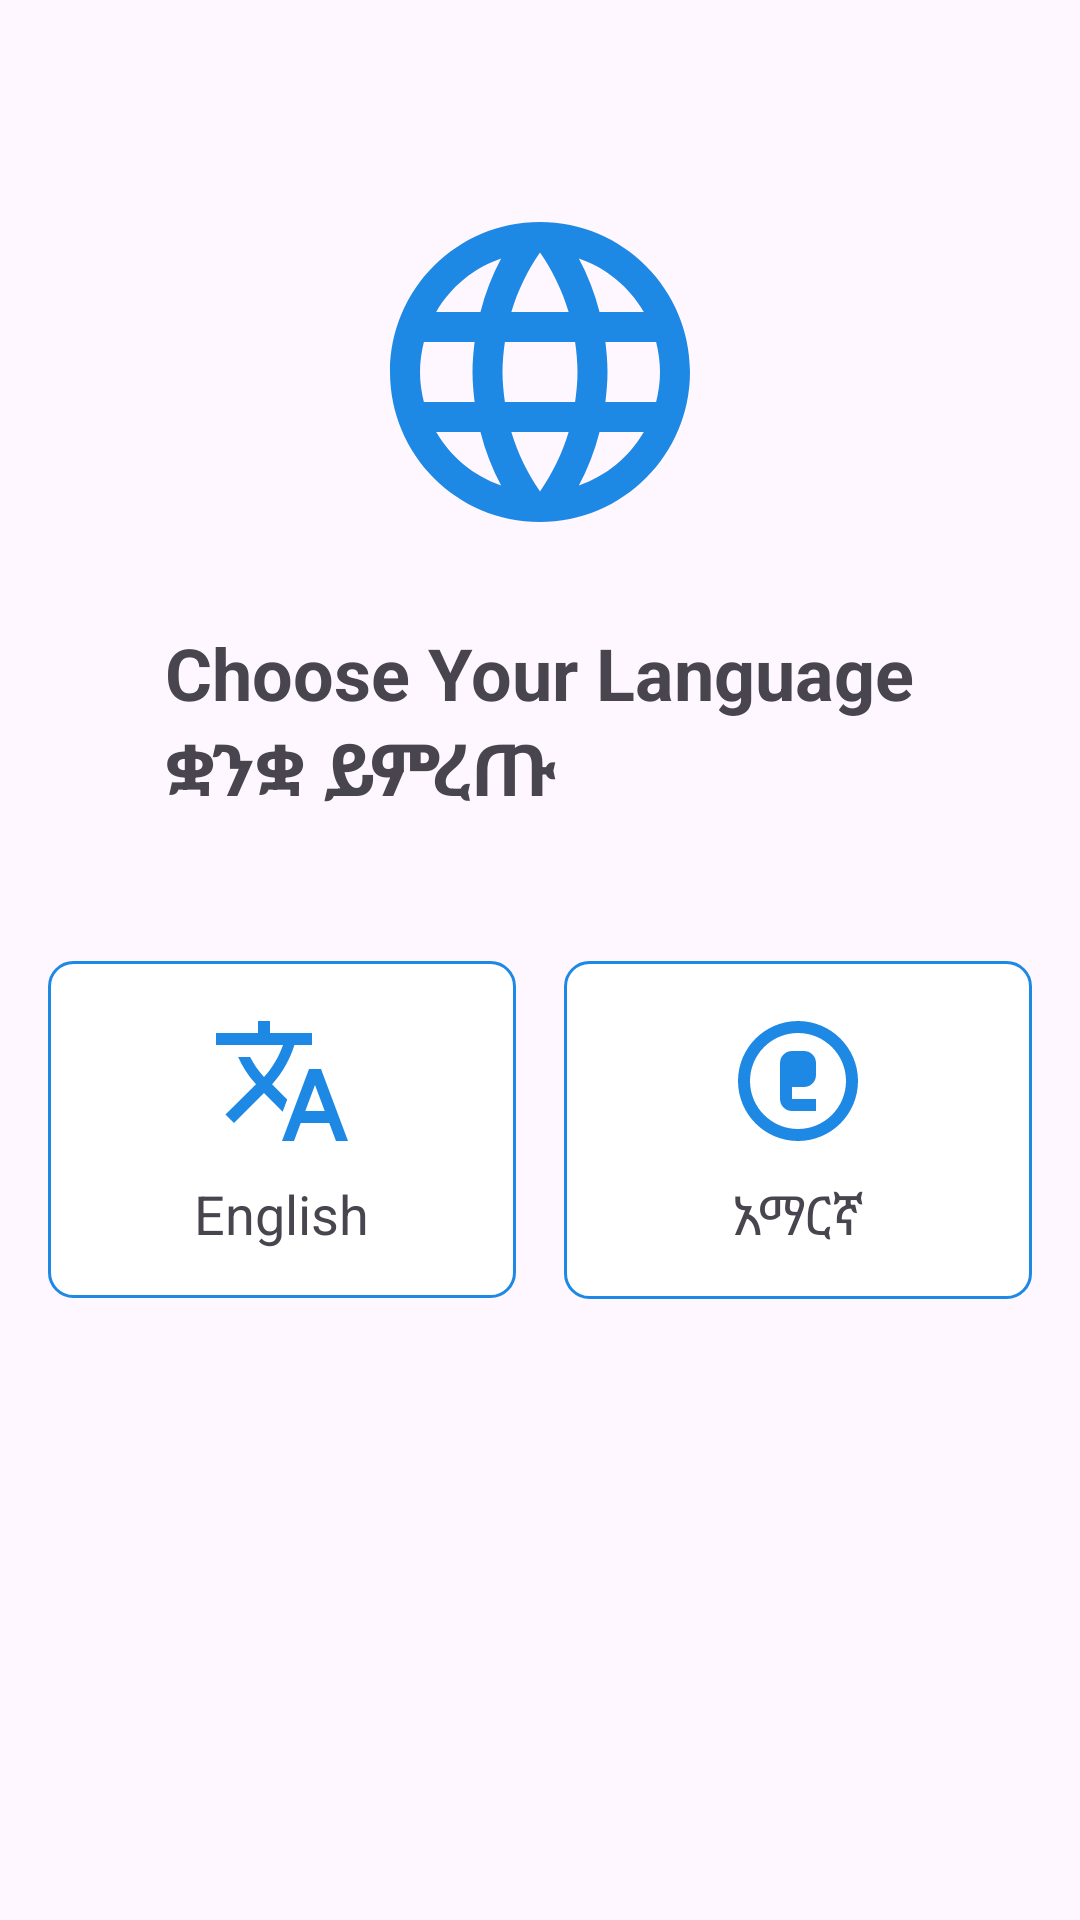

Where icons sit on this 1080x1920 app screen, as (x1, y1, x2, y2):
Language selection icon: (390, 222, 690, 522)
